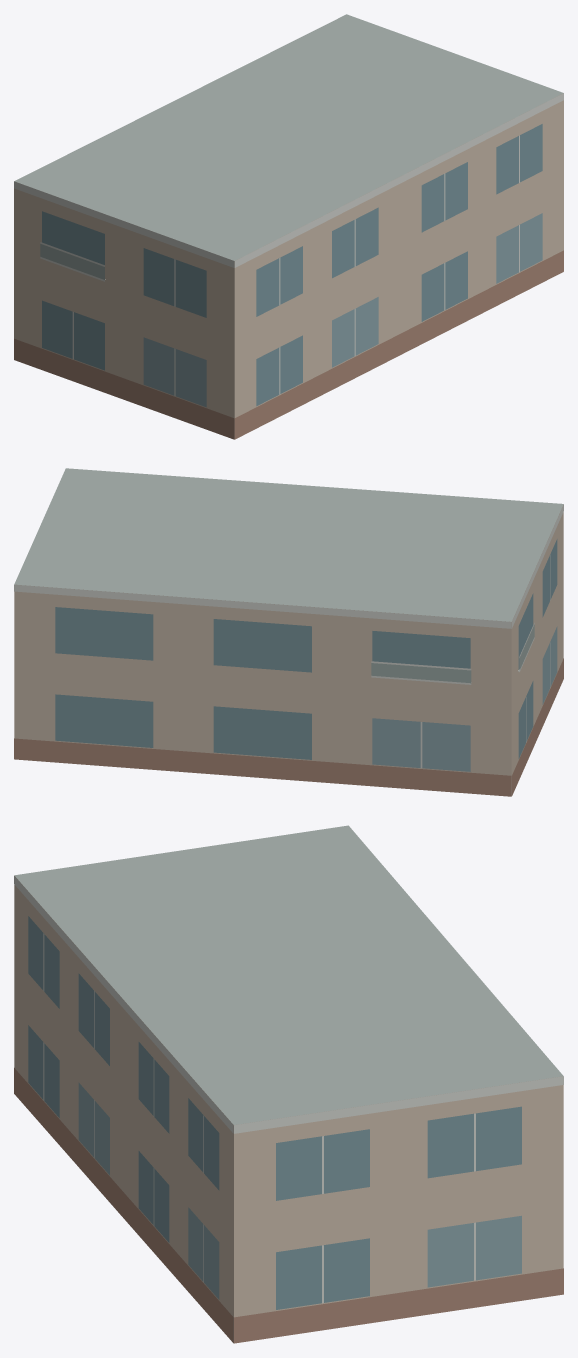
Rendered from survey-upis-32842340.glb.
3 renders of one model, top to bottom at view 1: azimuth 30°, elevation 25°; view 2: azimuth 150°, elevation 25°; view 3: azimuth 270°, elevation 25°, orthographic. The views are drawn at different scales.
Parts seen in each view (by area): view 1: survey-upis-32842340.tmp; view 2: survey-upis-32842340.tmp; view 3: survey-upis-32842340.tmp.
Boxes of the visible parts, x1,y1,x2,y2 form: survey-upis-32842340.tmp: [14, 14, 563, 439]; survey-upis-32842340.tmp: [14, 468, 563, 796]; survey-upis-32842340.tmp: [14, 825, 563, 1343].
Bounding box in the file's own units: 17.97 × 6.1 × 13.93.
